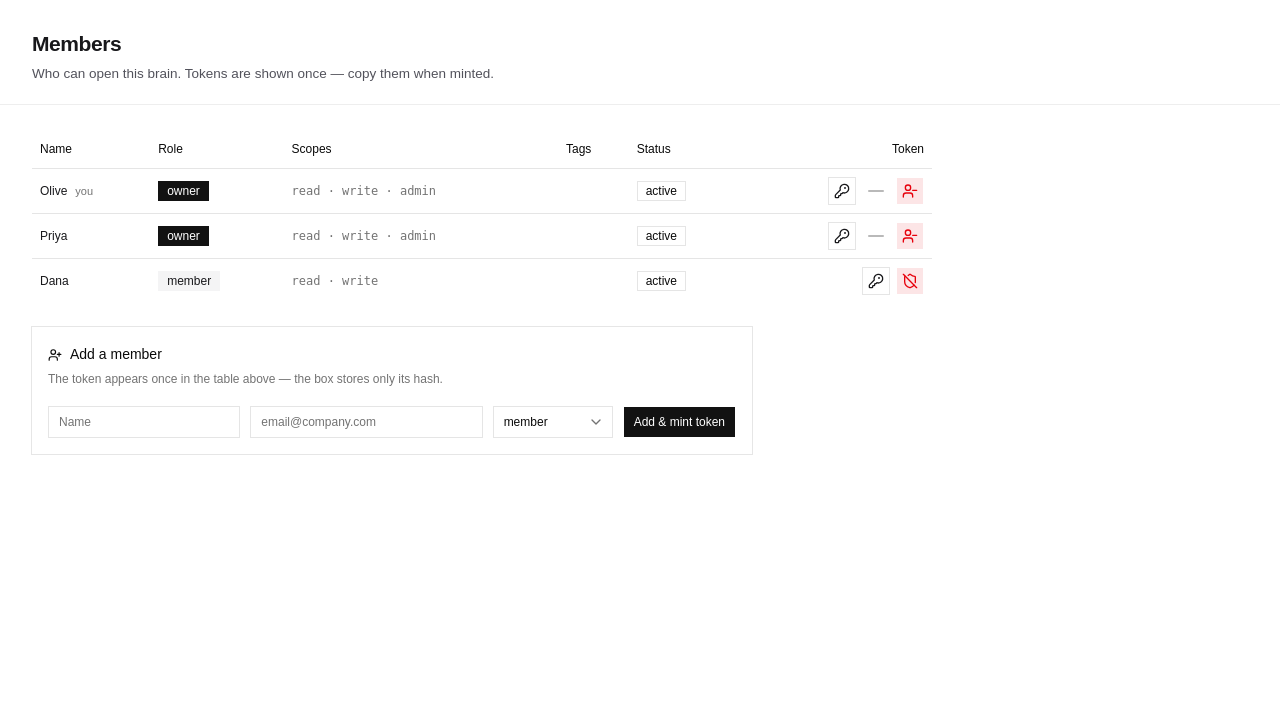
Test: <MembersView /> owner removal › surfaces the server's refusal verbatim (already pending)
Expected: the text "Priya" is shown, [32,214,150,259]
Click the button named "Remove owner Priya": x=910, y=236 [896,222,924,250]
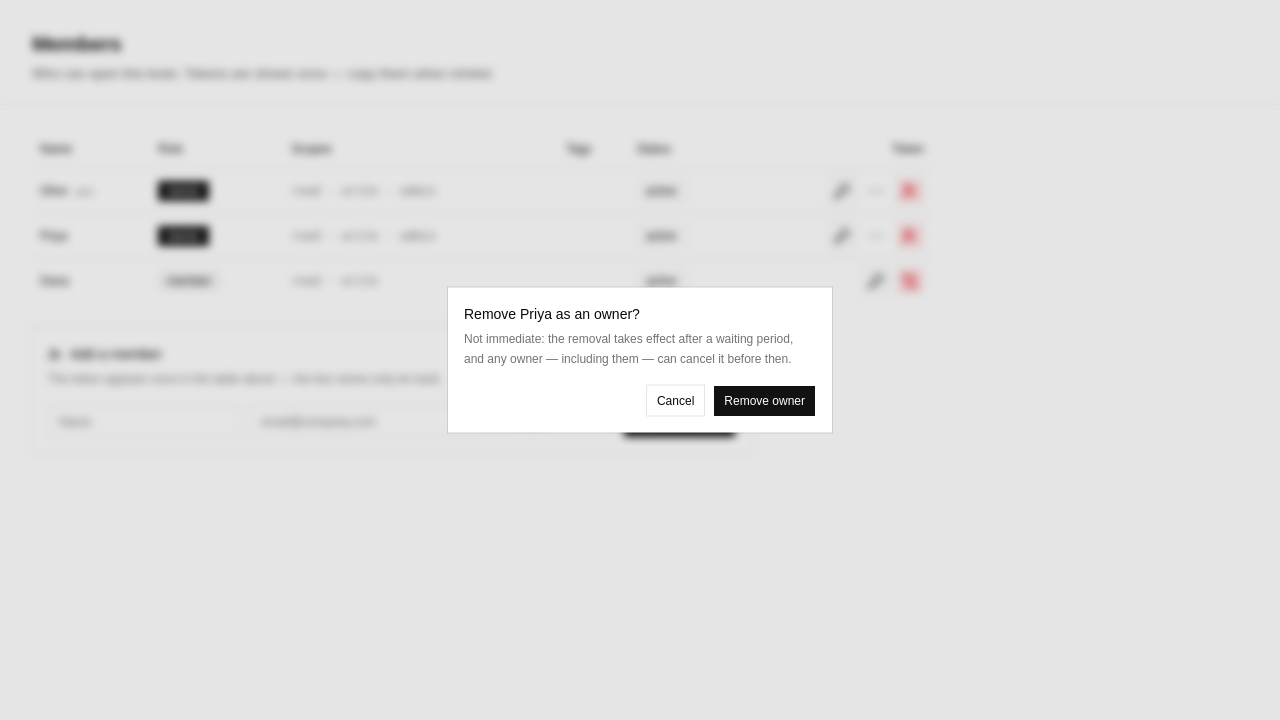
Click the button "Remove owner": x=765, y=400 [713,384,816,416]
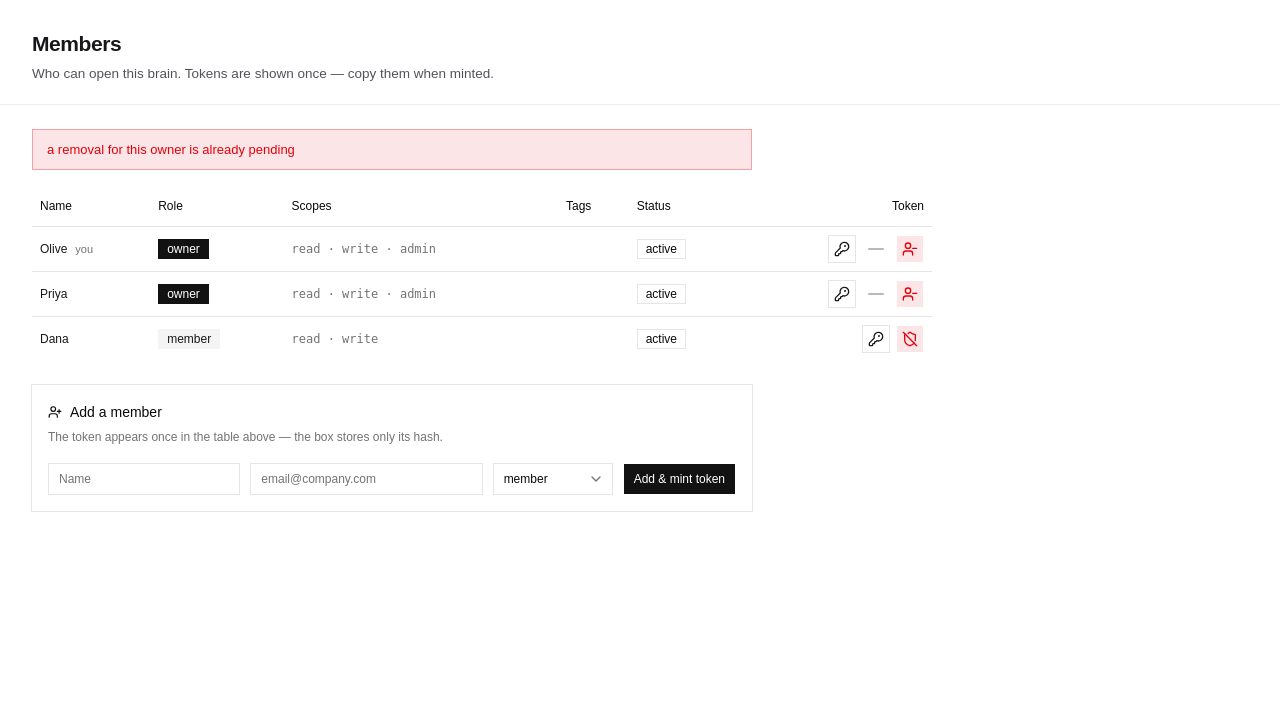
Now the text "a removal for this owner is already pending" is shown, box [32,129,752,170]
